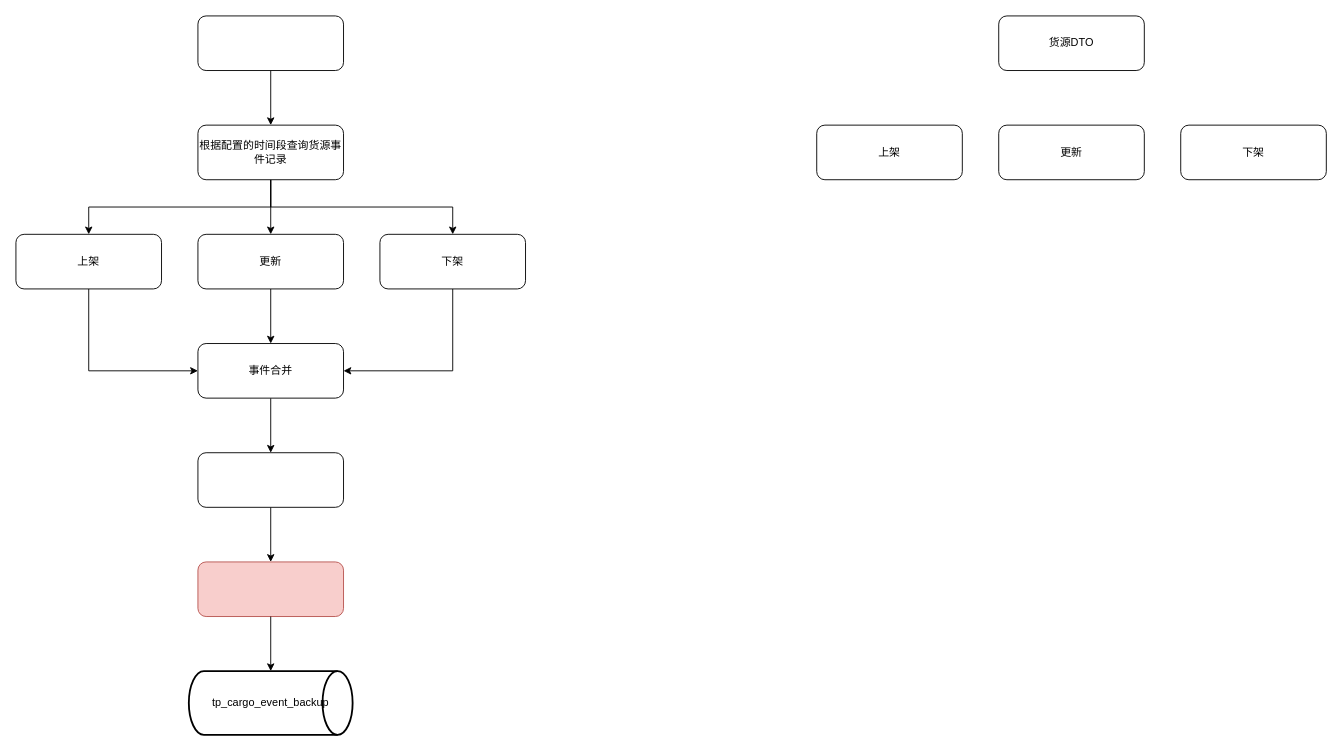
Image size: 1342x752. Some labels were removed from this diagram. Here are the shapes that lost their labels. From the top down, the centre of each, then its label:
the point at 270,43: JOB
the point at 270,479: 查询货源DTO
the point at 270,589: 发生货源事件
